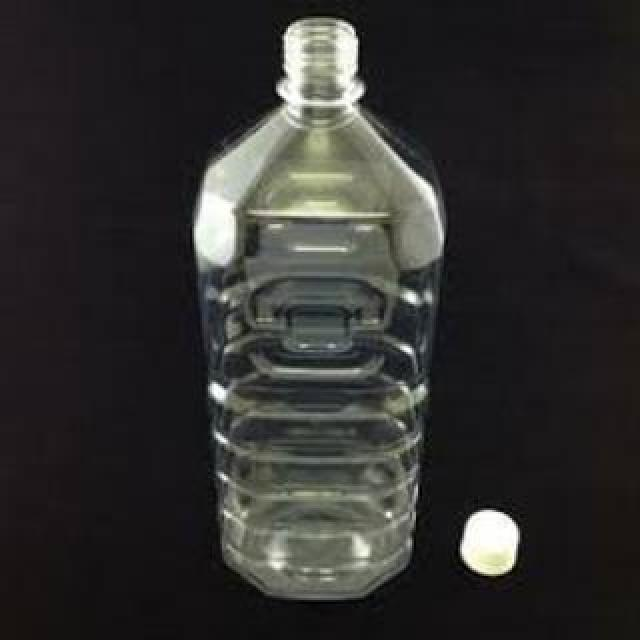Pet_Bottle: (199, 14, 451, 602)
